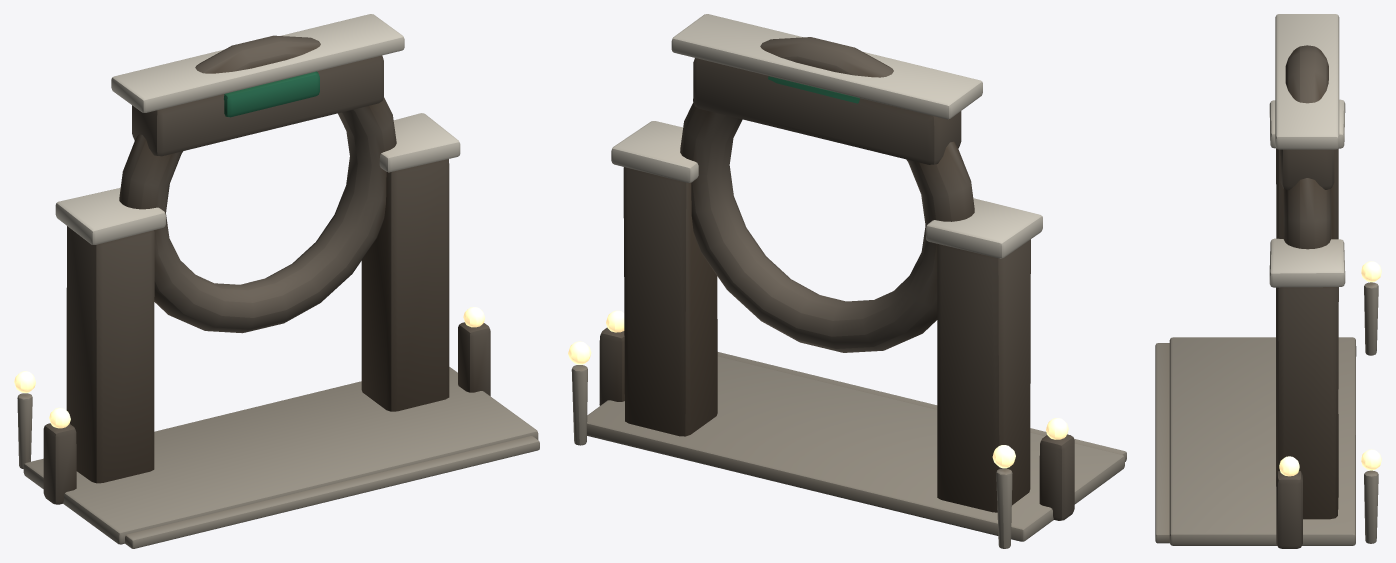
The picture shows the model from 3 angles, left to right: view 1: azimuth 30°, elevation 25°; view 2: azimuth 150°, elevation 25°; view 3: azimuth 270°, elevation 25°; orthographic projection. The views are drawn at different scales.
Parts seen in each view (by area): view 1: gate_9375a60a; view 2: gate_9375a60a; view 3: gate_9375a60a.
Part boxes in pixels (x1,y1,x2,y2): gate_9375a60a: (14, 14, 539, 548); gate_9375a60a: (568, 14, 1126, 548); gate_9375a60a: (1155, 14, 1381, 548).
Size of the model in its own units: 5.5 by 4.81 by 2.55.
